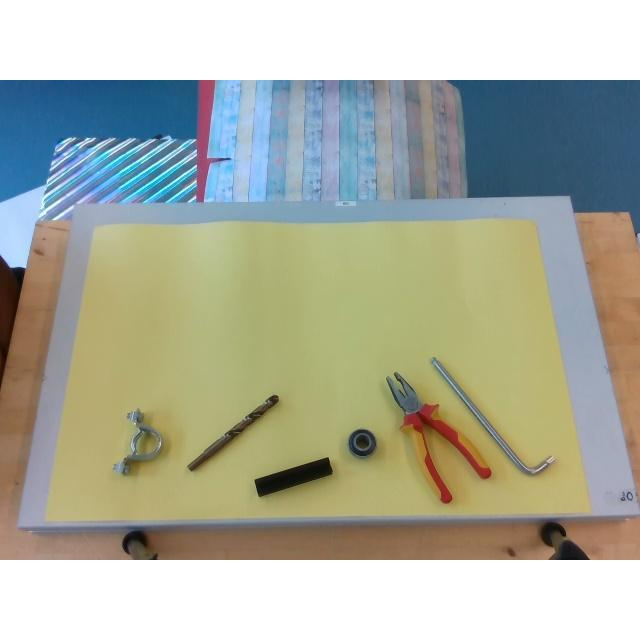AllenKey: (431, 357, 557, 475)
Bearing2: (348, 428, 377, 457)
Drill: (186, 394, 278, 470)
F20_20_B: (254, 456, 332, 496)
Housing: (113, 410, 163, 474)
